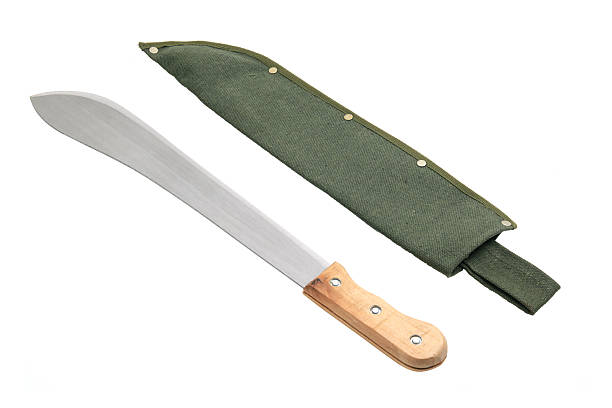knife: (26, 87, 451, 374)
